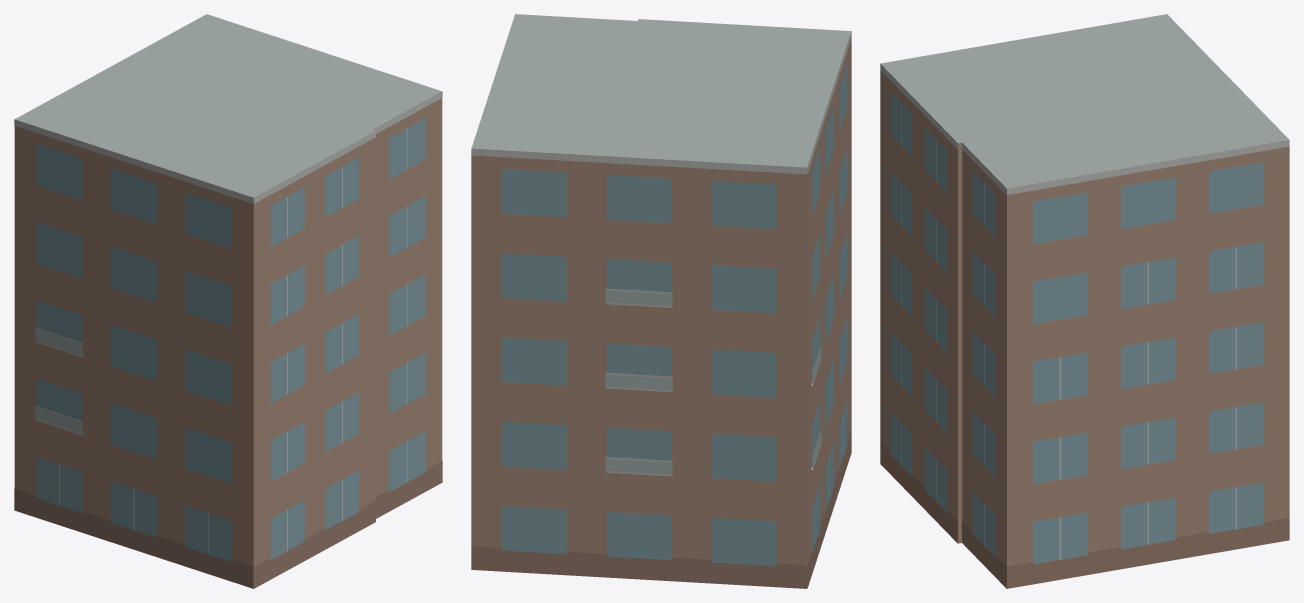
Rendered from survey-upis-32709579.glb.
3 renders of one model, left to right at view 1: azimuth 30°, elevation 25°; view 2: azimuth 150°, elevation 25°; view 3: azimuth 270°, elevation 25°, orthographic. The views are drawn at different scales.
Visible parts, largest first — view 1: survey-upis-32709579.tmp; view 2: survey-upis-32709579.tmp; view 3: survey-upis-32709579.tmp.
Part boxes in pixels (x1,y1,x2,y2): survey-upis-32709579.tmp: (14,14,442,588); survey-upis-32709579.tmp: (471,14,851,588); survey-upis-32709579.tmp: (880,14,1289,588).
Bounding box in the file's own units: 14.04 × 15 × 13.91.
